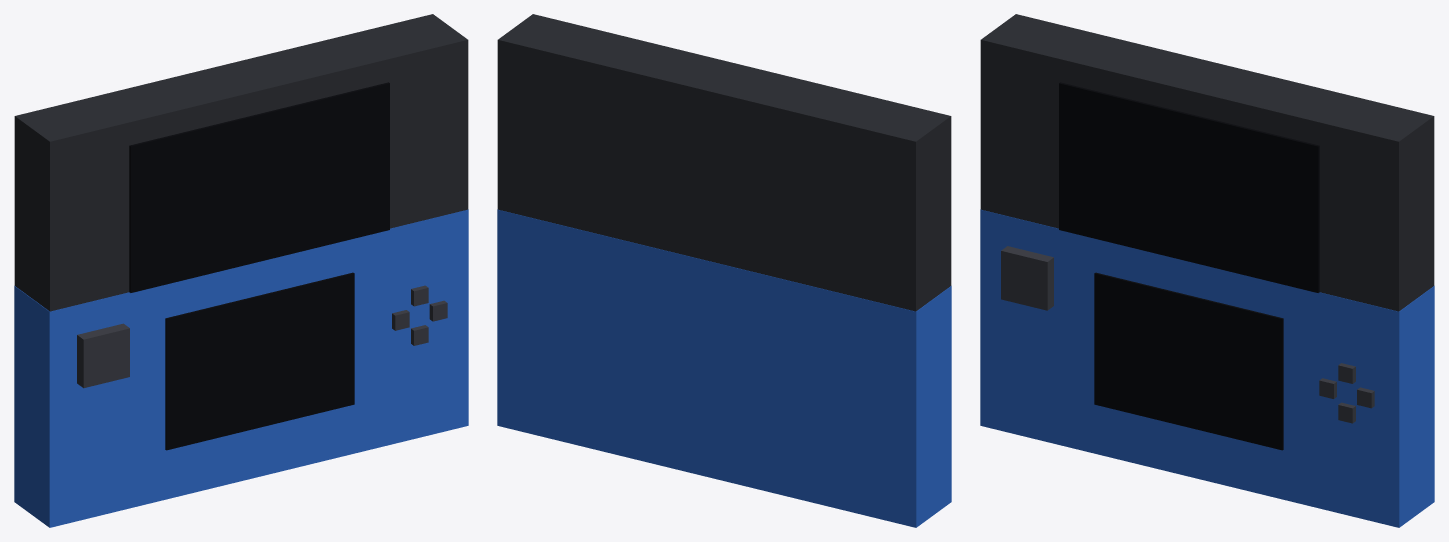
The model's file is 3dsvr_2ds.obj.
3 views of the same model, side by side, from view 1: azimuth 30°, elevation 25°; view 2: azimuth 150°, elevation 25°; view 3: azimuth 330°, elevation 25° (orthographic).
Bounding box in the file's own units: 0.1443 × 0.127 × 0.0251.
1 material, 1 textured.
